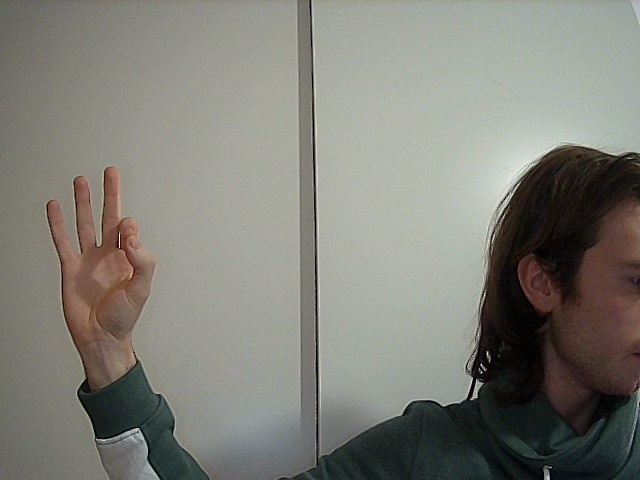f: (31, 161, 182, 342)
